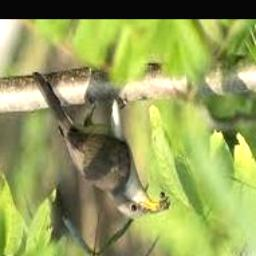Cuckoo: (32, 72, 168, 218)
